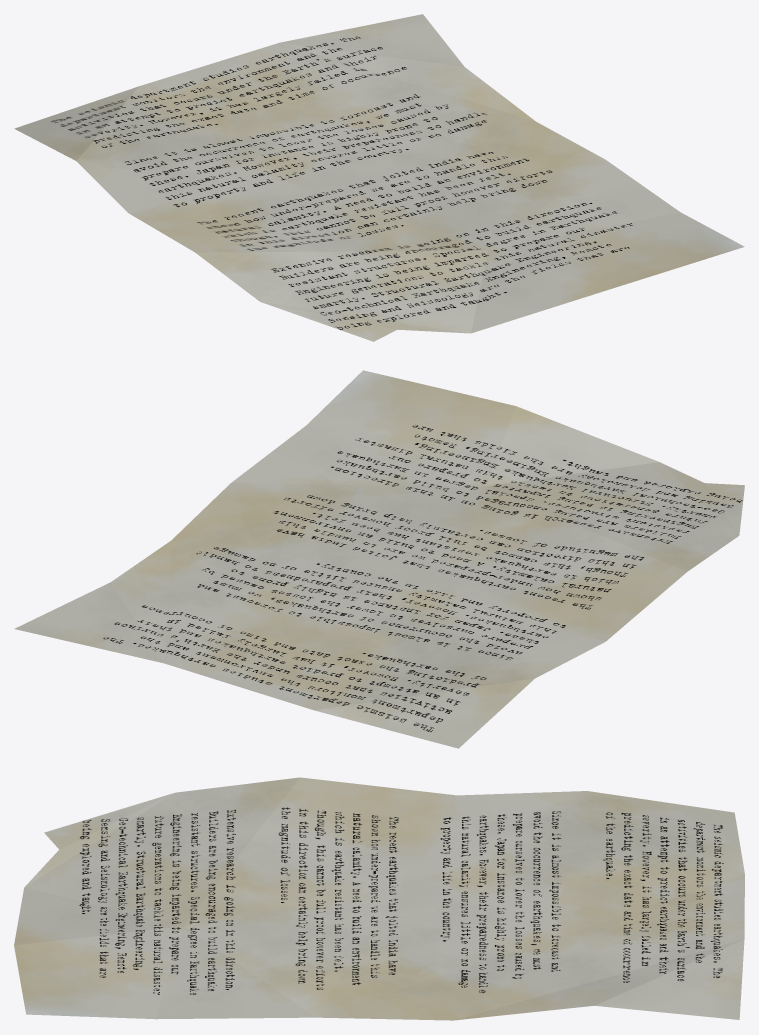
File: SM_Paper_04.fbx
The picture shows the model from 3 angles, top to bottom: view 1: azimuth 30°, elevation 25°; view 2: azimuth 150°, elevation 25°; view 3: azimuth 270°, elevation 25°; orthographic projection. The views are drawn at different scales.
Parts seen in each view (by area): view 1: SM_Paper_04; view 2: SM_Paper_04; view 3: SM_Paper_04.
Boxes of the visible parts, left/top/right/bottom form: SM_Paper_04: left=14, top=14, right=744, bottom=341; SM_Paper_04: left=14, top=370, right=744, bottom=748; SM_Paper_04: left=14, top=777, right=744, bottom=1020.
Bounding box in the file's own units: 22.33 × 1.31 × 30.01.
